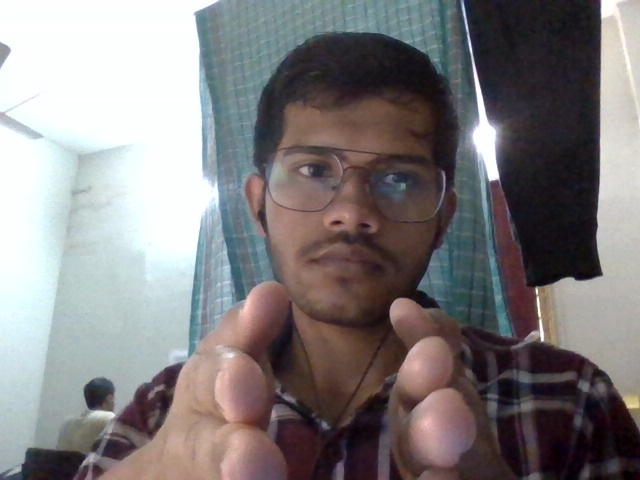ThankYou: (201, 273, 491, 480)
